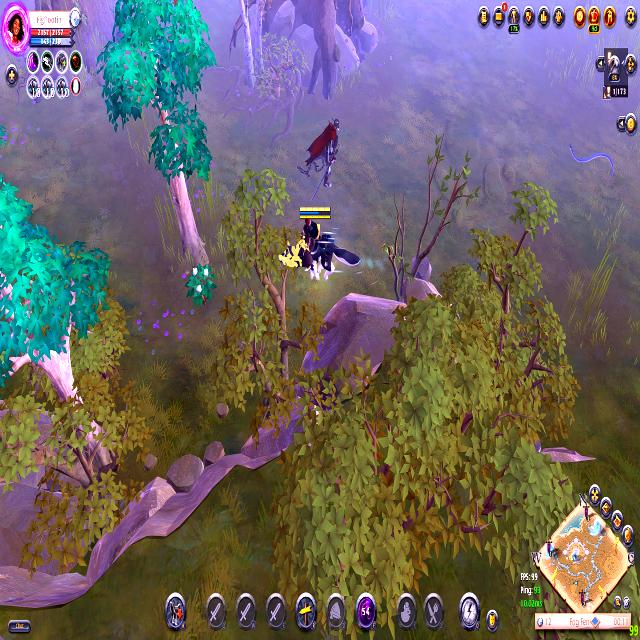hide: (184, 258, 216, 313)
ore: (304, 106, 346, 192)
red: (272, 204, 366, 292)
wisp caged: (0, 168, 117, 481), (95, 0, 219, 285), (237, 0, 274, 95)
